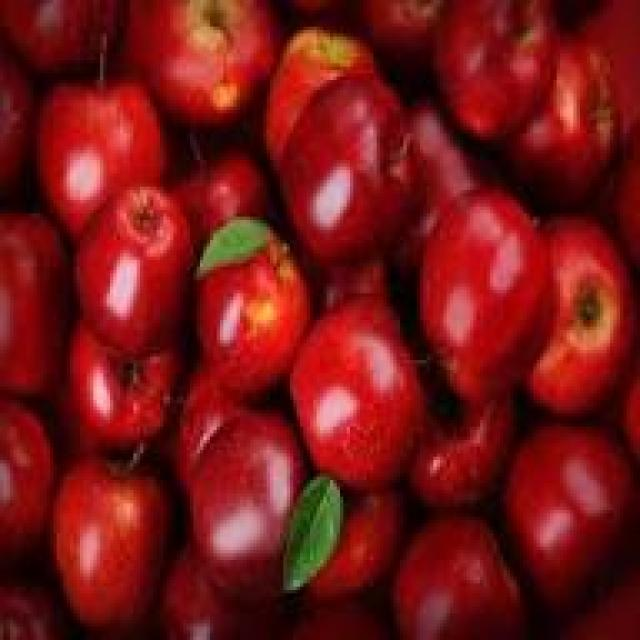apple: (290, 53, 423, 260), (417, 200, 553, 393), (283, 297, 430, 473), (526, 210, 626, 417), (190, 220, 307, 393), (500, 427, 623, 590), (260, 33, 377, 197), (74, 190, 184, 363), (40, 73, 163, 227), (184, 417, 304, 573), (50, 443, 160, 607), (63, 314, 177, 444), (390, 513, 510, 627)
